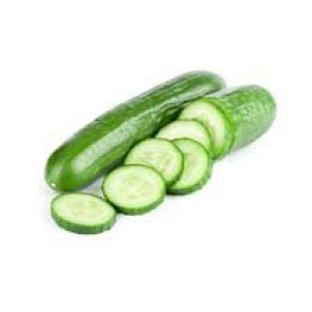Cucumber: (45, 72, 224, 190), (207, 85, 275, 150), (179, 98, 232, 158), (104, 165, 165, 214), (124, 138, 182, 186), (52, 193, 115, 233), (169, 140, 213, 194), (156, 120, 211, 151)
